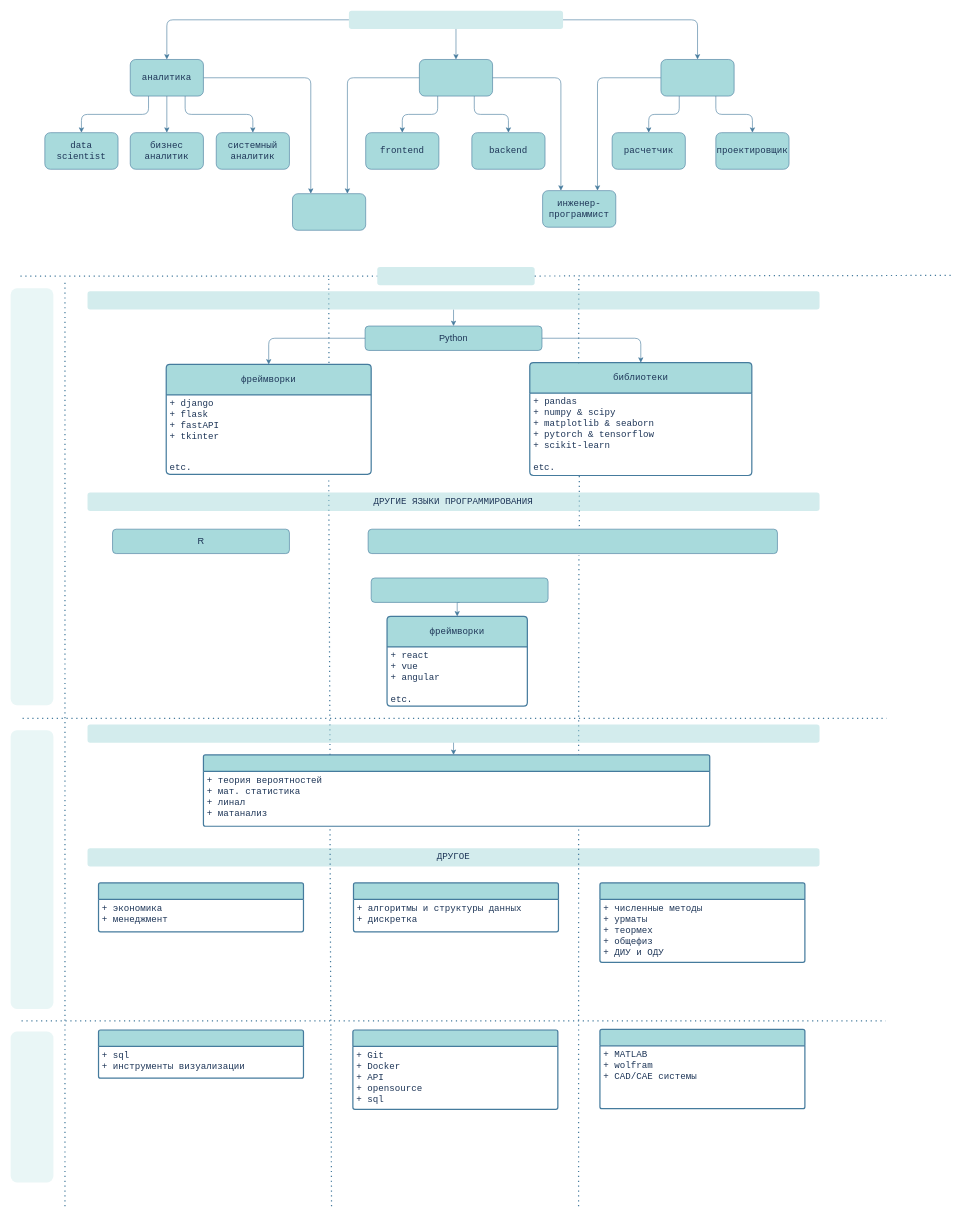
This 966x1218 diagram has some shape labels left out. The centre of each missing label's shape, as x and y in pixels:
"C/C++" goes at point 572,541.
"JavaScript" goes at point 459,589.
"архитектор" goes at point 329,211.
"БАЗA" goes at point 453,733.
"БАЗОВЫЙ ЯЗЫК ПРОГРАММИРОВАНИЯ" goes at point 453,300.
"ДР. ИНСТРУМЕНТЫ" goes at point 31,1106.
"инженерия" goes at point 697,77.
"МАТ. ДИСЦИПЛИНЫ И НЕ ТОЛЬКО" goes at point 31,869.
"МОИ ТРАЕКТОРИИ РАЗВИТИЯ В IT" goes at point 456,19.
"разработка" goes at point 456,77.
"ЧТО НАДО ИЗУЧИТЬ" goes at point 455,276.
"ЯЗЫКИ ПРОГРАММИРОВАНИЯ" goes at point 31,496.
